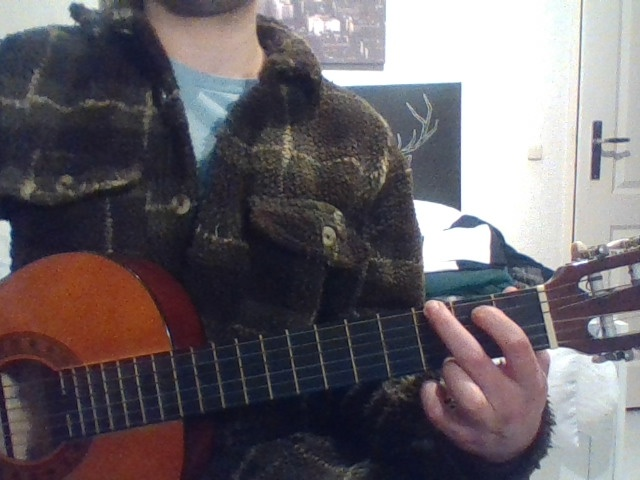G: (398, 284, 576, 473)
